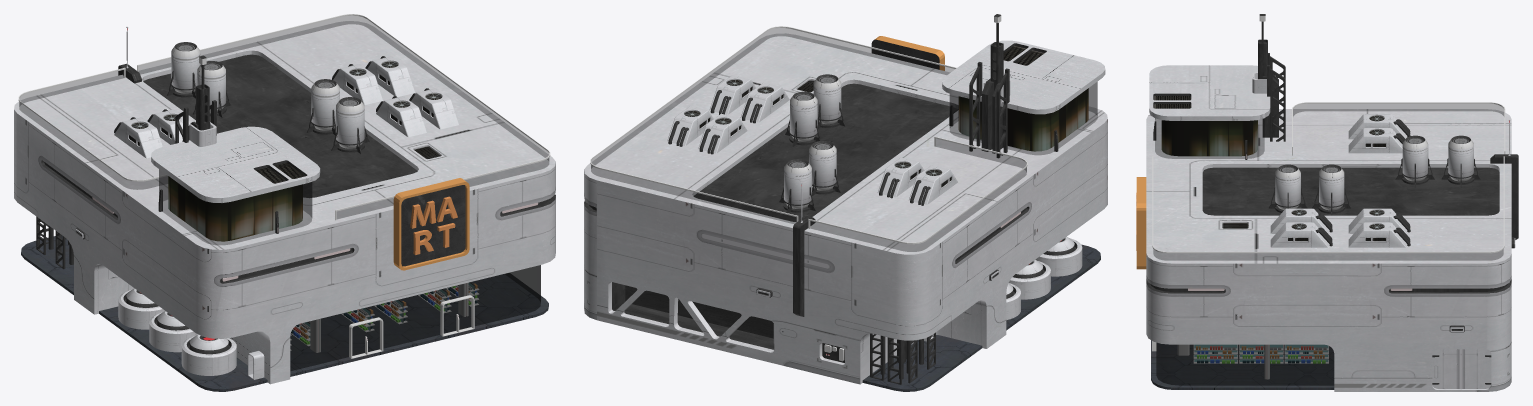
The model's file is commercial_1.glb.
3 views of the same model, side by side, from view 1: azimuth 30°, elevation 25°; view 2: azimuth 150°, elevation 25°; view 3: azimuth 270°, elevation 25° (orthographic). The views are drawn at different scales.
Parts seen in each view (by area): view 1: Object_26, Object_16, Object_22, Object_7, Object_9, Object_8, Object_21, Object_18, Object_27, Object_14, Object_13, Object_20 (+2 smaller); view 2: Object_16, Object_26, Object_22, Object_9, Object_21, Object_7, Object_18, Object_27, Object_20, Object_17, Object_3, Object_14; view 3: Object_26, Object_16, Object_22, Object_9, Object_8, Object_7, Object_21, Object_18, Object_27, Object_24, Object_14, Object_20 (+3 smaller).
Part boxes in pixels (x1,y1,x2,y2): Object_26: (14,21,555,383); Object_16: (14,51,555,384); Object_22: (41,42,555,354); Object_7: (21,235,548,391); Object_9: (19,16,549,244); Object_8: (290,265,540,370); Object_21: (36,55,465,269); Object_18: (168,176,302,241); Object_27: (18,14,550,358); Object_14: (393,178,469,270); Object_13: (410,196,457,254); Object_20: (171,46,364,148); Object_16: (584,84,1107,384); Object_26: (584,33,1107,384); Object_22: (584,42,1077,379); Object_9: (591,28,1097,251); Object_21: (756,14,1058,384); Object_7: (862,244,1100,391); Object_18: (958,88,1088,151); Object_27: (590,15,1027,361); Object_20: (784,78,841,208); Object_17: (699,45,1044,187); Object_3: (684,80,941,175); Object_14: (875,36,944,70); Object_26: (1146,65,1515,389); Object_16: (1146,144,1511,391); Object_22: (1146,39,1511,293); Object_9: (1153,104,1503,260); Object_8: (1156,343,1334,385); Object_7: (1151,340,1334,389); Object_21: (1153,14,1518,384); Object_18: (1161,120,1257,156); Object_27: (1152,16,1505,379); Object_24: (1194,344,1328,361); Object_14: (1136,177,1146,269); Object_20: (1275,139,1473,210).
Size of the model in its own units: 16.74 by 12.35 by 17.25.
25 materials, 11 textured.
